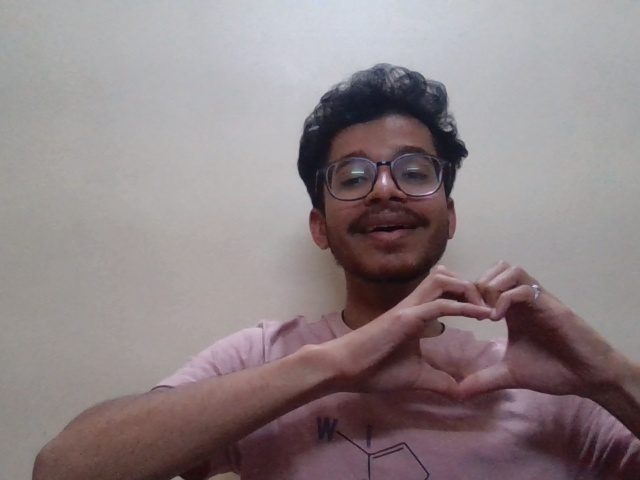silent-voice: (377, 261, 573, 432)
